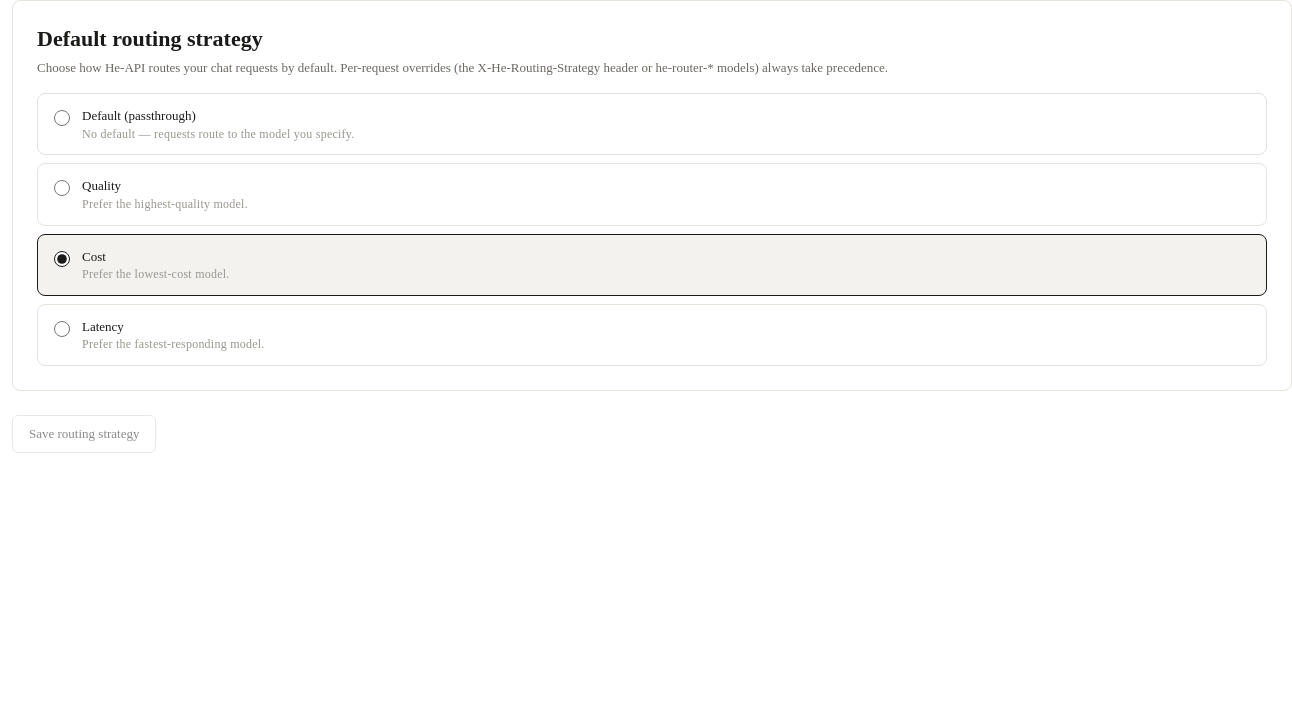
Test: AC1: RoutingStrategyForm — select + persist › 6.5-UNIT-005: save error → error banner; no optimistic mutation
Click the radio button labelled "Quality Prefer the highest-quality model.": click(62, 188) [54,180,70,196]
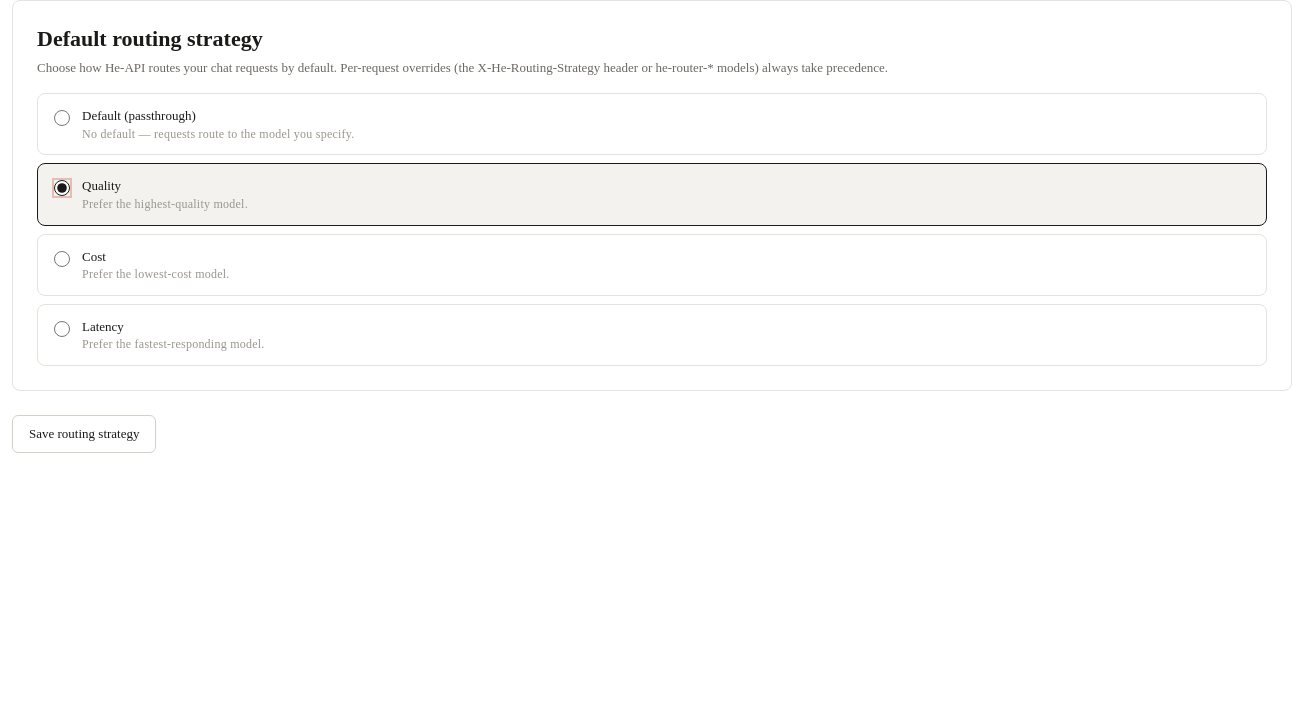
Click the button "Save routing strategy": click(84, 434) [12,415,156,453]
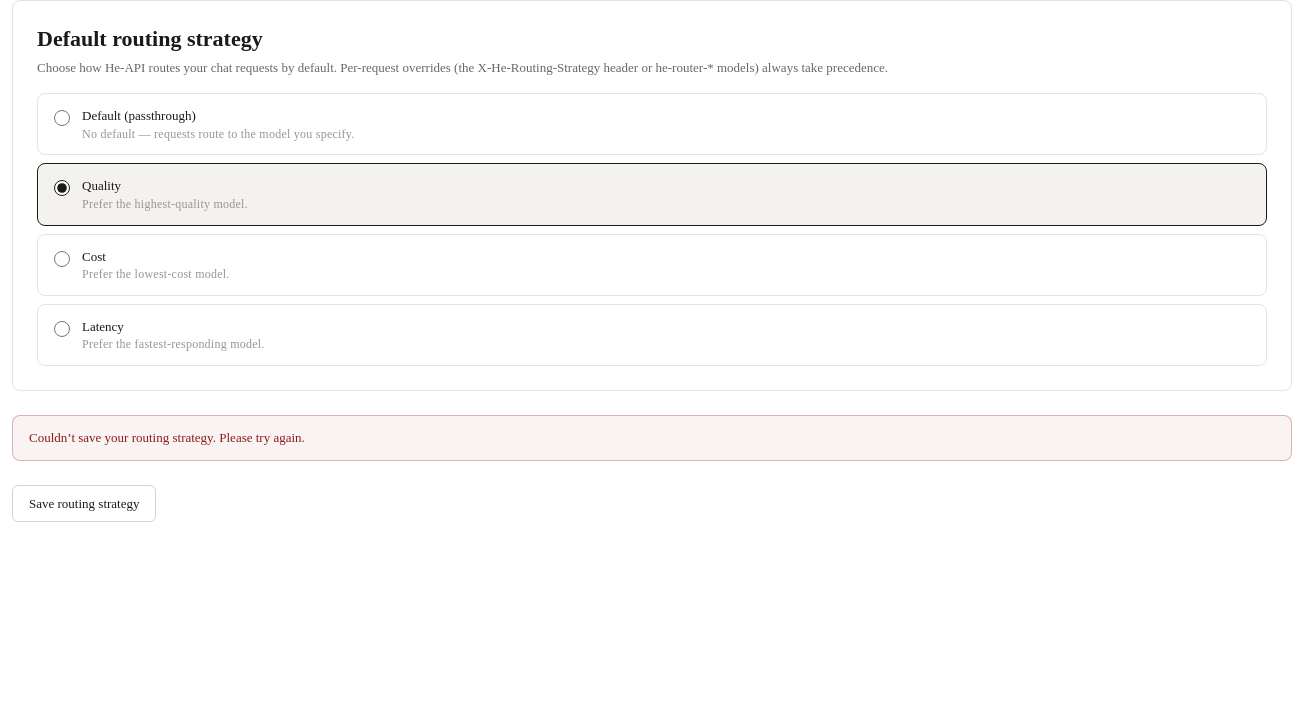
Expected: the text "Couldn’t save your routing strategy. Please try again." is shown, [12,415,1291,461]
